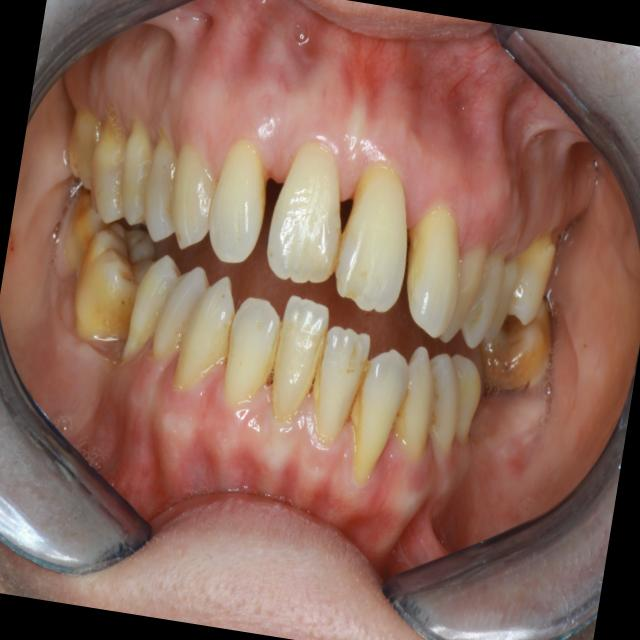tooth: (247, 114, 371, 303), (326, 153, 427, 333), (192, 121, 290, 295), (55, 210, 161, 361), (392, 179, 477, 353), (204, 279, 295, 434), (340, 336, 422, 504), (258, 288, 343, 449), (168, 265, 250, 426), (301, 314, 381, 461), (153, 121, 231, 260), (113, 242, 184, 384), (470, 308, 564, 415), (124, 114, 196, 252), (386, 336, 454, 471), (145, 252, 213, 386), (73, 115, 146, 239), (104, 107, 168, 241), (411, 351, 475, 481), (458, 233, 515, 357), (440, 226, 493, 349), (505, 223, 564, 333), (438, 350, 492, 457), (55, 179, 116, 272), (54, 98, 111, 197), (482, 243, 524, 357)
